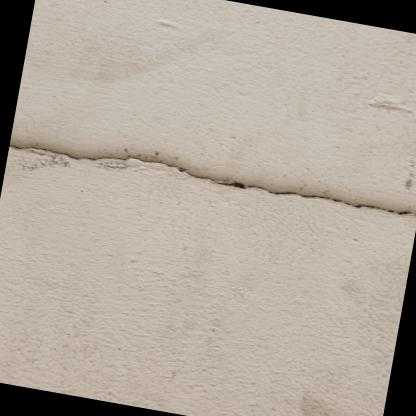crack: (7, 142, 416, 217)
